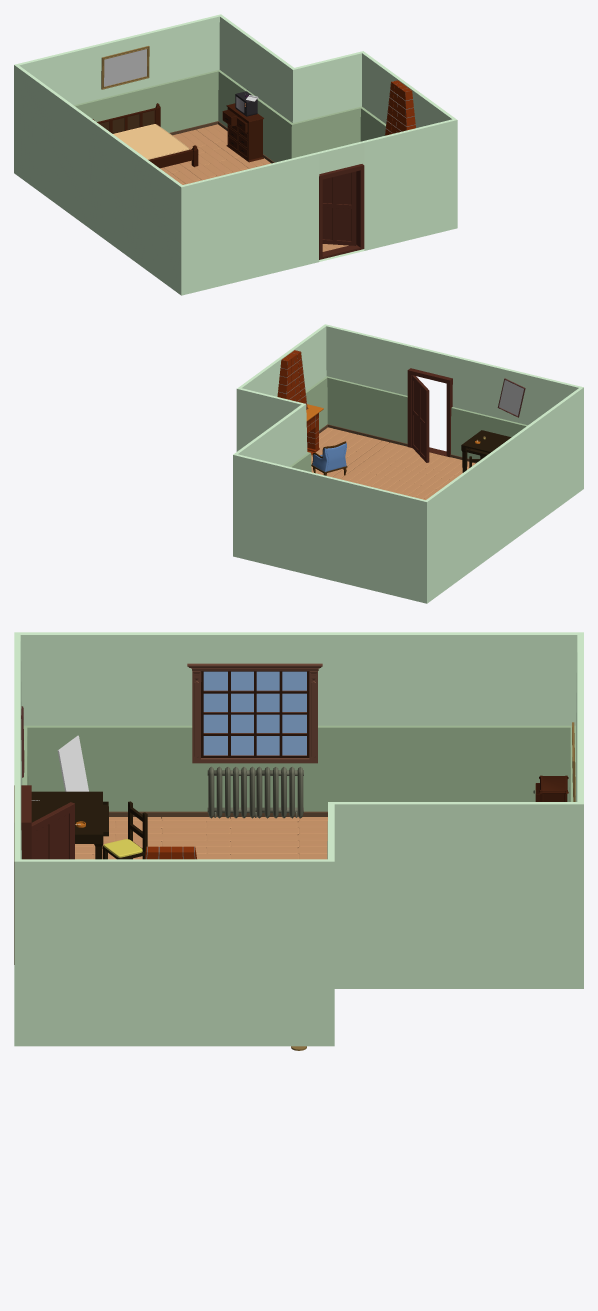
The model's file is Bedroom.fbx.
The picture shows the model from 3 angles, top to bottom: view 1: azimuth 30°, elevation 25°; view 2: azimuth 150°, elevation 25°; view 3: azimuth 270°, elevation 25°; orthographic projection. The views are drawn at different scales.
Parts seen in each view (by area): view 1: Cube.035, Cube.015, Cube.008, Plane.041, Cube.006, Cube.001, mattress, Cube.023, Cube.014, Compone181; view 2: Cube.035, Cube.015, Cube.014, Cube.008, Cube.006, Cube.012, MSH_Pillows, Plane.049; view 3: Cube.035, wind_low, Cube.015, Cube.021, Cube.012, Cube.008, Componen34, Cube.006.
Part boxes in pixels (x1,y1,x2,y2): Cube.035: (14, 14, 457, 295); Cube.015: (160, 124, 348, 251); Cube.008: (322, 171, 356, 245); Plane.041: (101, 46, 149, 89); Cube.006: (319, 164, 364, 259); Cube.001: (92, 103, 198, 168); mattress: (113, 124, 189, 159); Cube.023: (226, 103, 263, 162); Cube.014: (385, 80, 415, 135); Compone181: (235, 91, 257, 116); Cube.035: (233, 324, 583, 603); Cube.015: (311, 427, 475, 499); Cube.014: (277, 350, 319, 452); Cube.008: (411, 375, 429, 462); Cube.006: (407, 368, 452, 457); Cube.012: (461, 430, 511, 472); MSH_Pillows: (312, 442, 346, 471); Plane.049: (499, 380, 523, 415); Cube.035: (14, 632, 583, 1046); wind_low: (187, 663, 322, 763); Cube.015: (75, 817, 327, 859); Cube.021: (207, 766, 303, 818); Cube.012: (31, 791, 103, 859); Cube.008: (31, 802, 74, 859); Componen34: (57, 735, 88, 791); Cube.006: (14, 785, 31, 964).
Bounding box in the file's own units: 1464 × 495 × 840.
